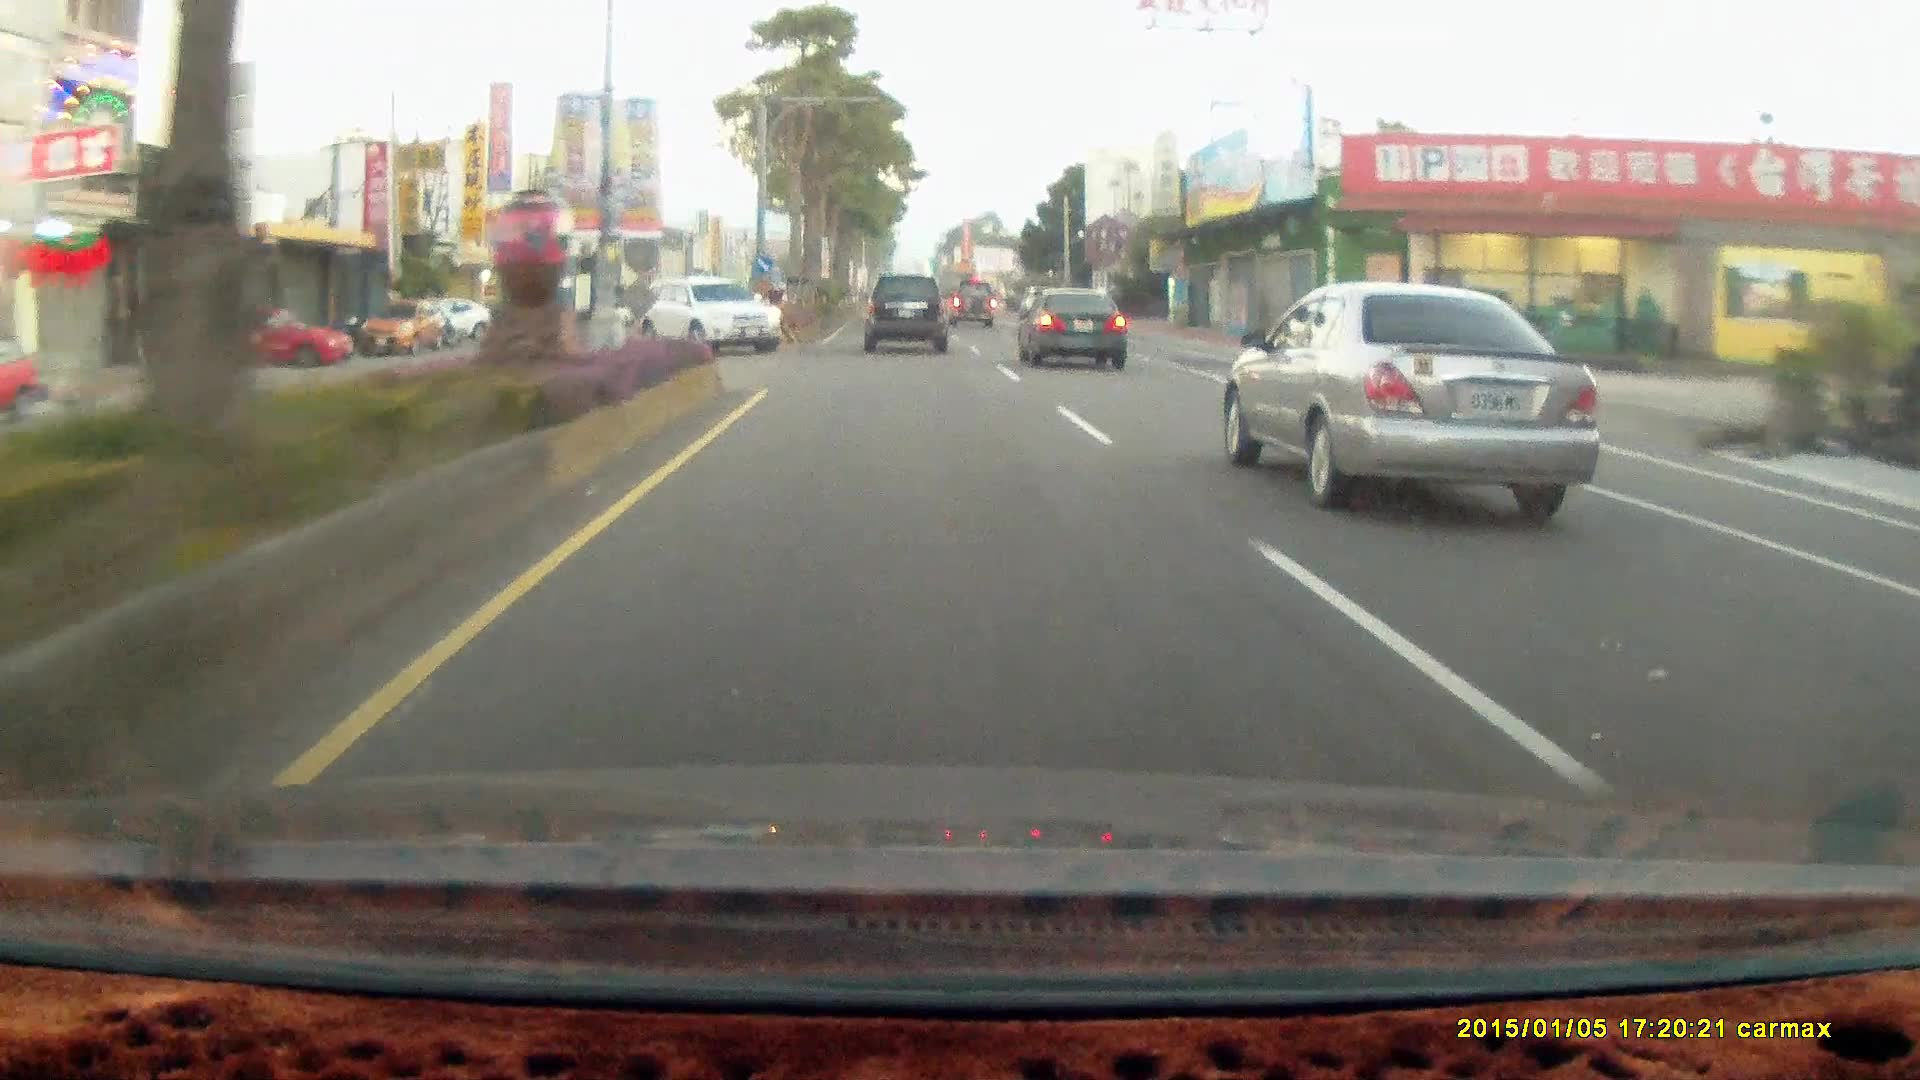vehicle: (1211, 284, 1611, 531), (633, 276, 781, 357), (651, 278, 786, 357), (183, 313, 355, 372), (186, 306, 352, 367), (1015, 286, 1130, 372), (1014, 285, 1126, 368), (352, 301, 468, 363), (866, 278, 955, 357), (862, 273, 945, 351), (355, 301, 444, 353), (407, 301, 493, 344), (1, 331, 42, 422), (945, 281, 997, 331)
